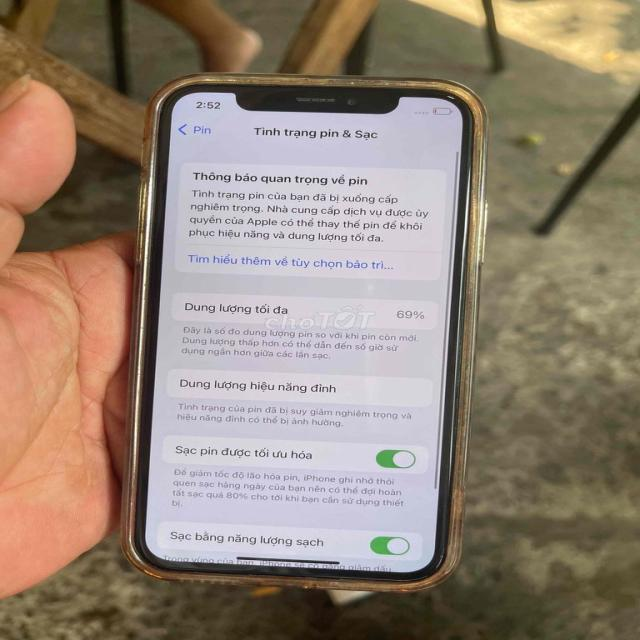gen_x_xs: (123, 75, 488, 590)
